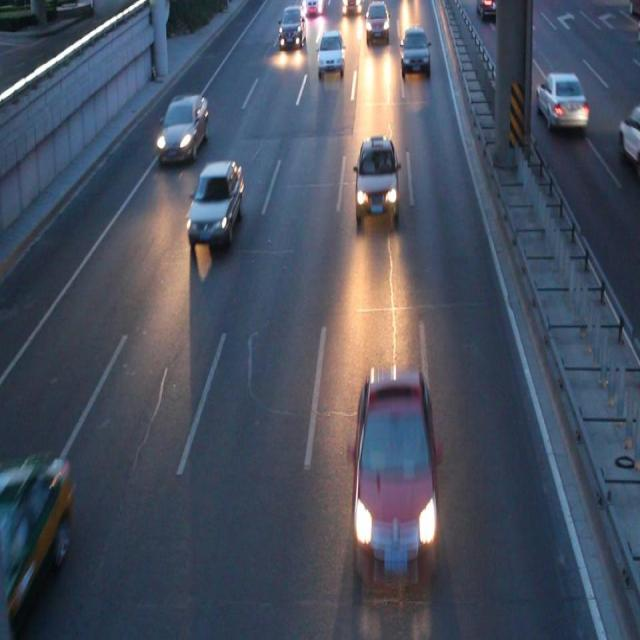car: (352, 372, 437, 570), (0, 458, 70, 640), (189, 160, 242, 242), (156, 94, 208, 161), (354, 140, 397, 220), (536, 72, 587, 127), (400, 28, 430, 72), (618, 108, 640, 166), (278, 1, 305, 45), (316, 31, 344, 72), (365, 1, 388, 42), (476, 1, 506, 20), (302, 1, 323, 14), (342, 1, 362, 14)
